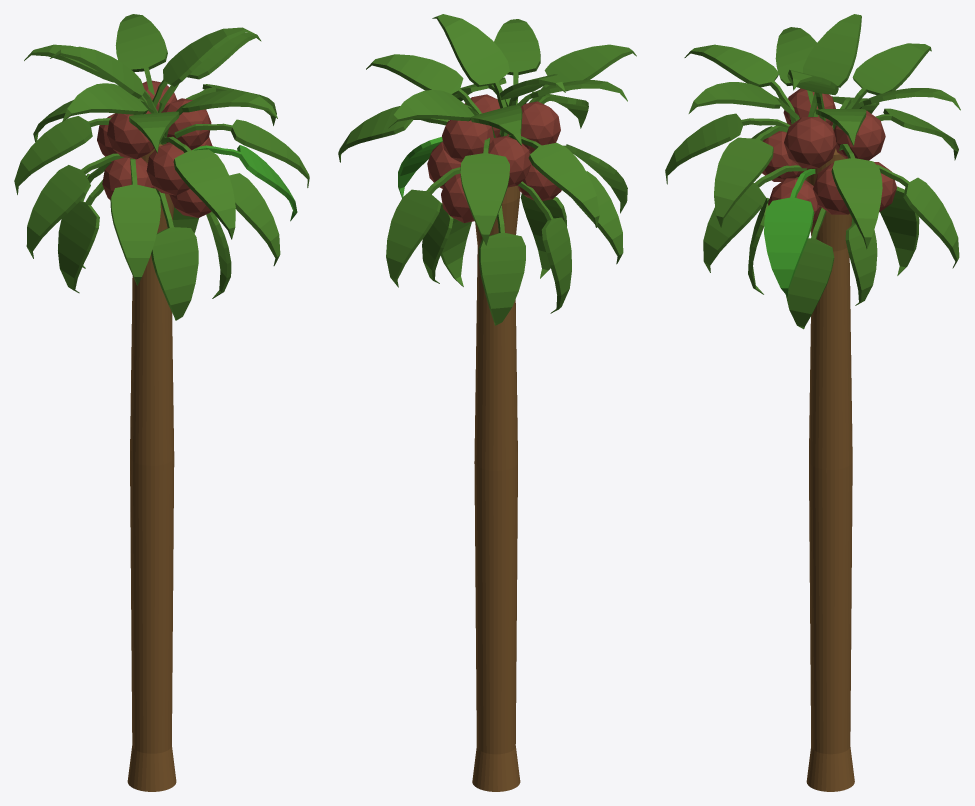
Rendered from lowpolypalm.fbx.
3 renders of one model, left to right at view 1: azimuth 30°, elevation 25°; view 2: azimuth 150°, elevation 25°; view 3: azimuth 270°, elevation 25°, orthographic.
Visible parts, largest first — view 1: tall tree, Cube.007, Cube.010, Cube.001, Cube.006, Cube.011, Cube.019, Cube.005, Cube.002, Cube.022, Cube.021, Cube.008 (+12 smaller); view 2: tall tree, Cube.012, Cube.015, Cube.004, Cube.022, Cube.005, Cube.018, Cube.011, Cube.016, Cube.017, Cube.019, Icosphere.007 (+16 smaller); view 3: tall tree, Cube.009, Cube.002, Cube.003, Cube.013, Cube.023, Cube.020, Cube.008, Cube.015, Icosphere.006, Cube.001, Cube.016 (+14 smaller).
Boxes of the visible parts, bbox=[...] form: tall tree: bbox=[127, 144, 176, 791]; Cube.007: bbox=[110, 158, 160, 285]; Cube.010: bbox=[151, 188, 198, 320]; Cube.001: bbox=[160, 136, 235, 239]; Cube.006: bbox=[26, 153, 123, 258]; Cube.011: bbox=[58, 180, 103, 293]; Cube.019: bbox=[115, 14, 167, 95]; Cube.005: bbox=[14, 116, 111, 194]; Cube.002: bbox=[174, 119, 309, 187]; Cube.022: bbox=[152, 27, 254, 107]; Cube.021: bbox=[62, 83, 153, 122]; Cube.008: bbox=[229, 173, 280, 265]; tall tree: bbox=[472, 185, 520, 791]; Cube.012: bbox=[478, 205, 525, 325]; Cube.015: bbox=[386, 167, 460, 287]; Cube.004: bbox=[460, 138, 509, 245]; Cube.022: bbox=[432, 14, 509, 136]; Cube.005: bbox=[508, 135, 599, 227]; Cube.018: bbox=[366, 54, 481, 114]; Cube.011: bbox=[518, 181, 571, 313]; Cube.016: bbox=[529, 44, 636, 102]; Cube.017: bbox=[494, 19, 540, 104]; Cube.019: bbox=[388, 89, 478, 128]; Icosphere.007: bbox=[442, 120, 493, 162]; tall tree: bbox=[806, 148, 854, 791]; Cube.009: bbox=[764, 169, 815, 296]; Cube.002: bbox=[714, 125, 788, 227]; Cube.003: bbox=[831, 144, 882, 248]; Cube.013: bbox=[786, 208, 834, 329]; Cube.023: bbox=[803, 14, 861, 116]; Cube.020: bbox=[846, 43, 931, 108]; Cube.008: bbox=[703, 165, 806, 272]; Cube.015: bbox=[876, 164, 959, 268]; Icosphere.006: bbox=[784, 117, 836, 168]; Cube.001: bbox=[665, 113, 790, 184]; Cube.016: bbox=[684, 44, 794, 124].
Size of the model in its own units: 291 by 779 by 283.
